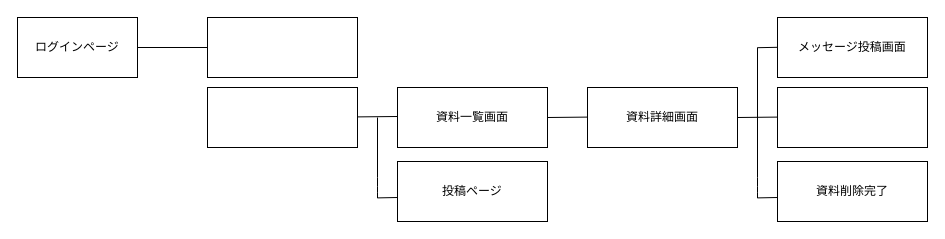
Some shapes in this 945 by 239 pixel diagram are drawn without their labels. Each missing label, with the centre of its shape:
ユーザー新規登録画面: [282,47]
一覧画面 （グループ）: [282,117]
資料編集画面: [852,117]
